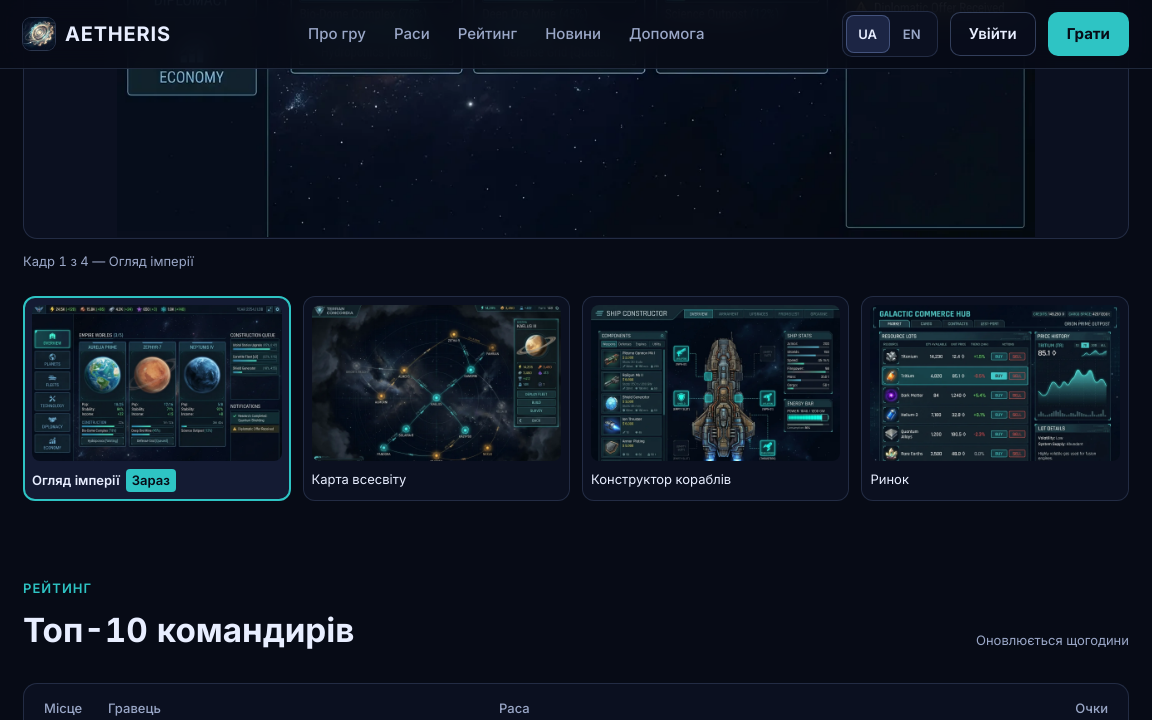
Test: LandingPage › switches the screenshot with the thumbnails and the arrow keys
This screenshot has width=1152, height=720.
(page scrolled)
Click the button "Карта всесвіту" at (436, 398), box [302,296,570,501]
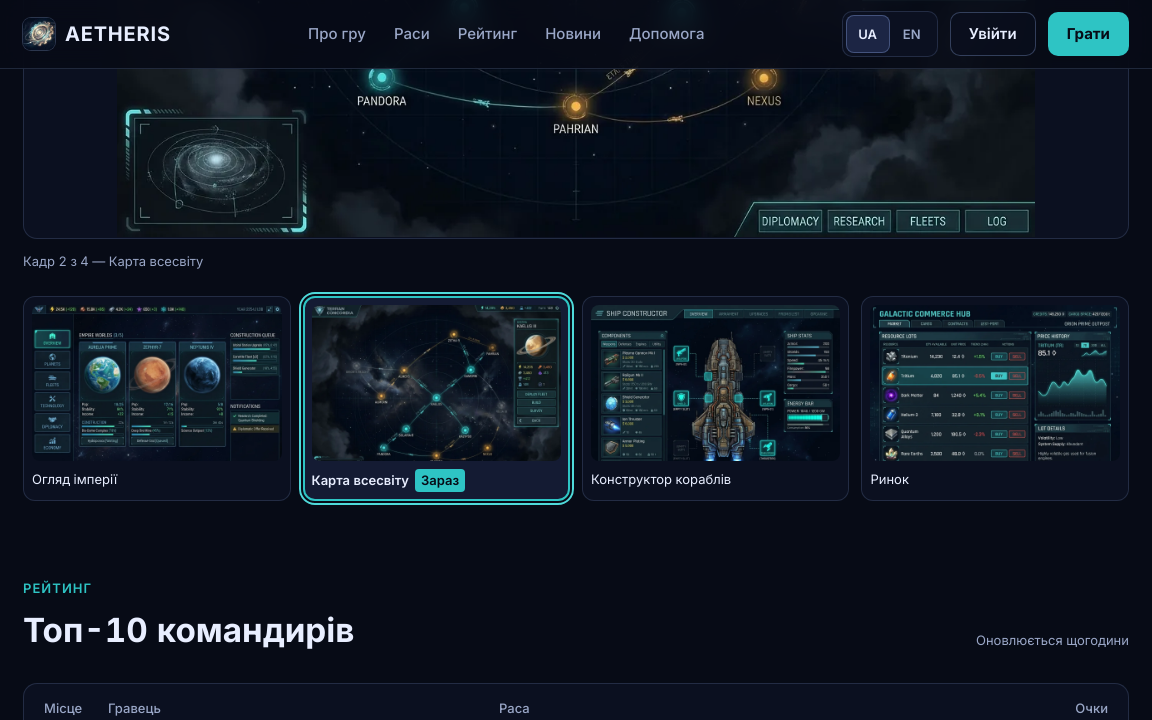
Check: the text "Кадр 2 з 4 — Карта всесвіту" is shown, box [23,253,203,269]
Press Arrowright
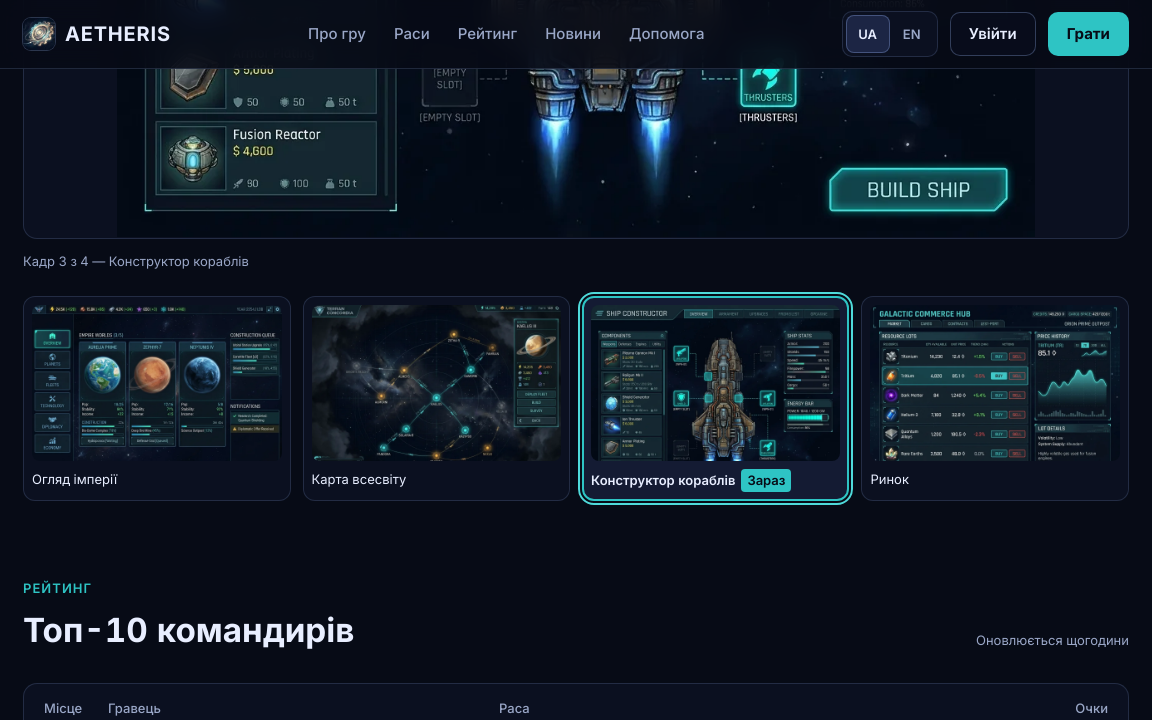
Check: the text "Кадр 3 з 4 — Конструктор кораблів" is shown, box [23,253,249,269]
